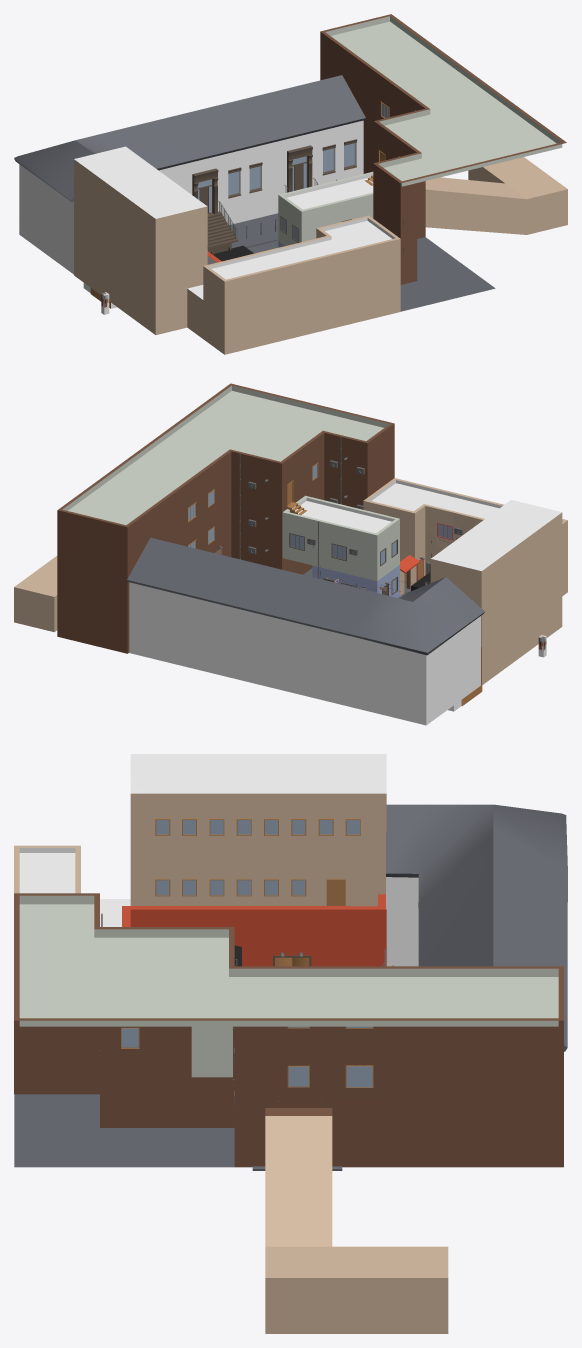
Rendered from city.FBX.
3 views of the same model, one above another, from view 1: azimuth 30°, elevation 25°; view 2: azimuth 150°, elevation 25°; view 3: azimuth 270°, elevation 25° (orthographic). The views are drawn at different scales.
Visible parts, largest first — view 1: Box028, Box059, Box058, Plane001, Box003; view 2: Box059, Box058, Box028, Box003, Box002; view 3: Box059, Box028, Box058, Plane001, Box003.
Boxes of the visible parts, <box> form: Box028: <box>74,146,400,354</box>; Box059: <box>320,14,567,284</box>; Box058: <box>14,75,365,308</box>; Plane001: <box>207,213,495,311</box>; Box003: <box>278,171,373,247</box>; Box059: <box>14,383,394,653</box>; Box058: <box>127,537,485,725</box>; Box028: <box>363,478,567,685</box>; Box003: <box>282,495,399,597</box>; Box002: <box>400,555,419,595</box>; Box059: <box>14,893,563,1333</box>; Box028: <box>14,754,386,966</box>; Box058: <box>382,804,567,1051</box>; Plane001: <box>14,1094,234,1167</box>; Box003: <box>191,1026,232,1077</box>.
Bounding box in the file's own units: 46.06 × 14.96 × 29.86.
